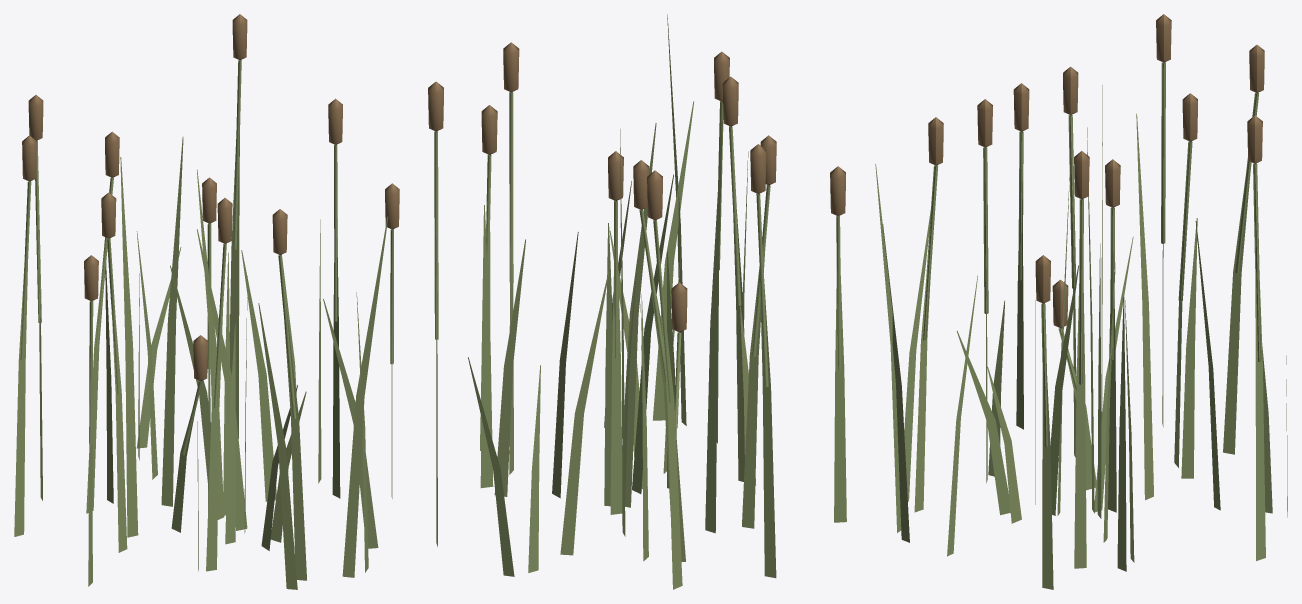
The model's file is reeds.glb.
The picture shows the model from 3 angles, left to right: view 1: azimuth 30°, elevation 25°; view 2: azimuth 150°, elevation 25°; view 3: azimuth 270°, elevation 25°; orthographic projection. The views are drawn at different scales.
Parts seen in each view (by area): view 1: reeds; view 2: reeds; view 3: reeds.
Part boxes in pixels (x1,y1,x2,y2): reeds: [14, 14, 399, 589]; reeds: [428, 14, 846, 589]; reeds: [875, 14, 1287, 589].
Size of the model in its own units: 2.22 by 2.75 by 2.3.
